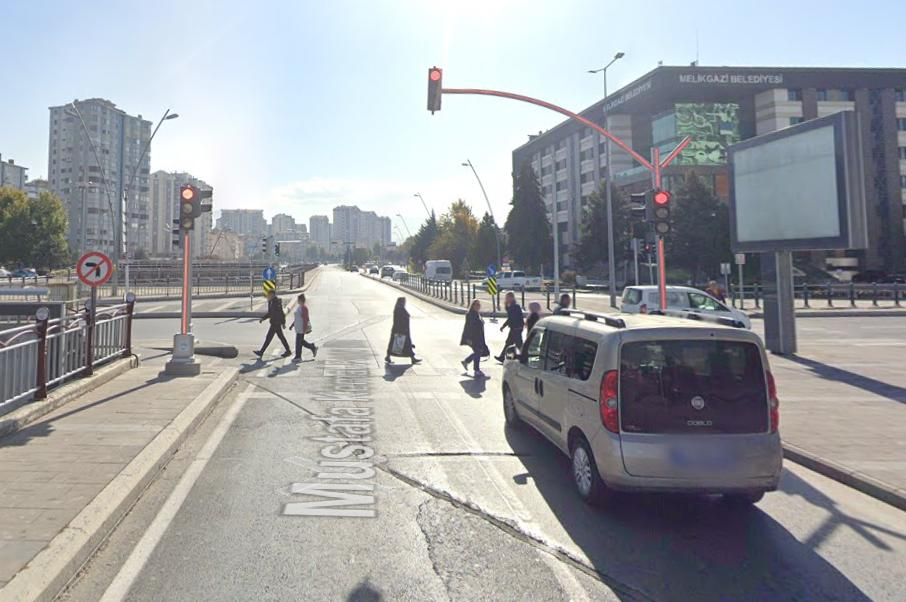leftturnsareforbidden: (77, 251, 111, 286)
redlight: (179, 187, 198, 234), (654, 190, 671, 238), (429, 67, 443, 112)
